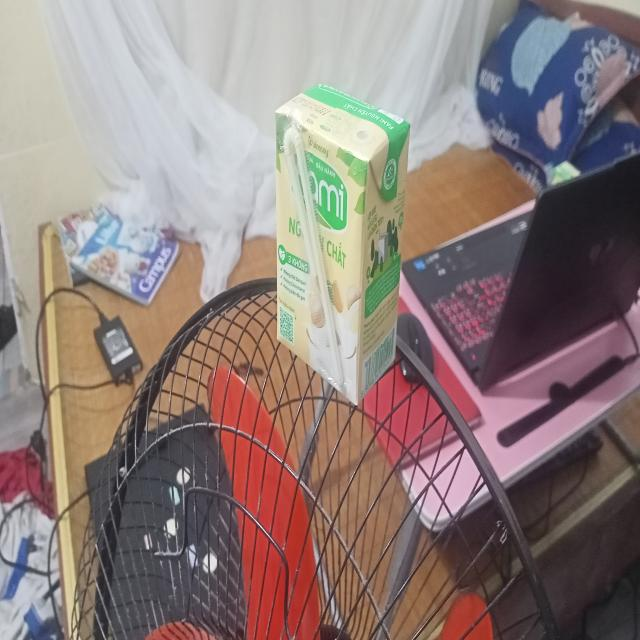Fami: (279, 83, 412, 408)
